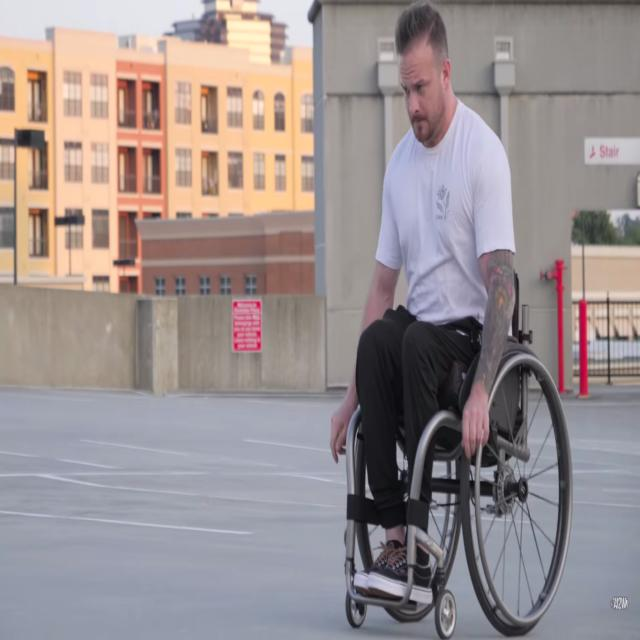wheelchairs: (336, 317, 574, 633)
